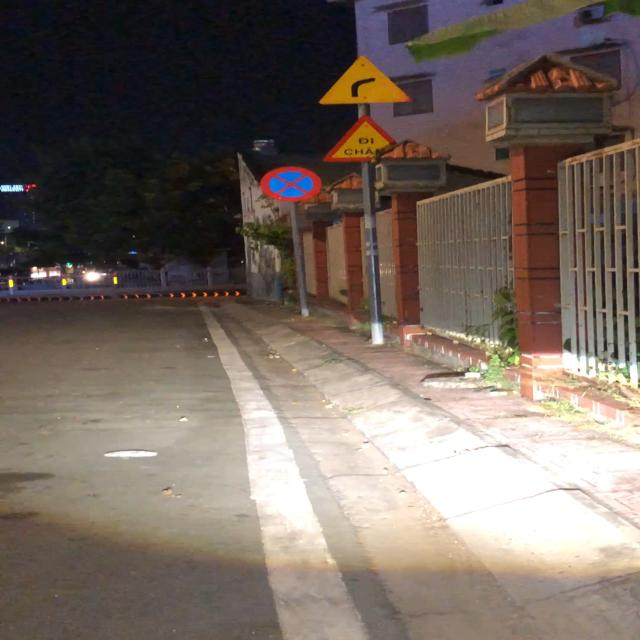Bien bao cam dung xe va do xe: (259, 164, 322, 204)
Bien bao cho ngoat nguy hiem: (316, 52, 413, 107)
Bien bao di cham: (322, 116, 411, 164)
